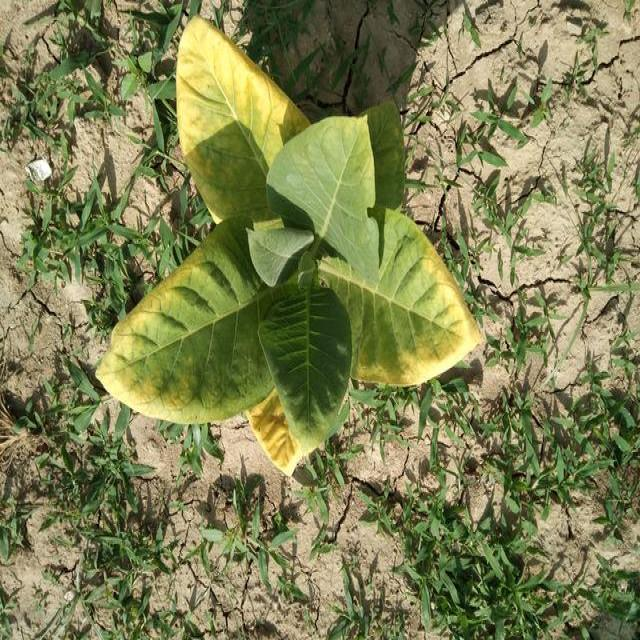crop: (103, 18, 480, 472)
